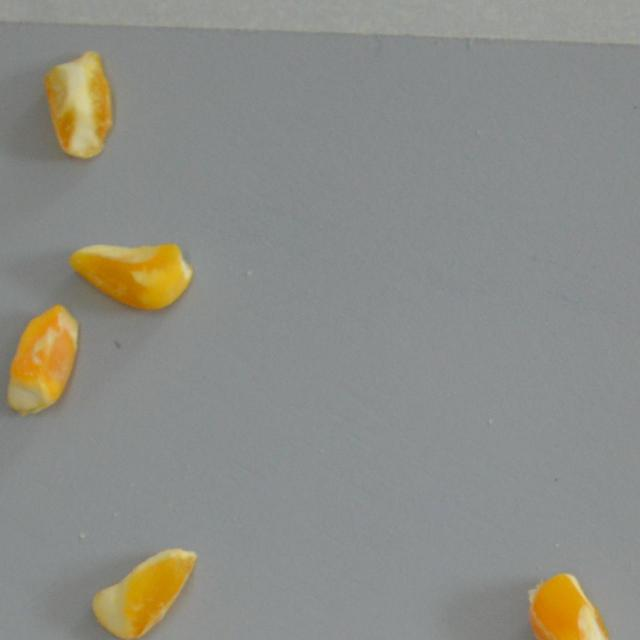estandar: (40, 39, 117, 164), (67, 236, 192, 310)
pelicula: (2, 300, 88, 422), (88, 546, 200, 639), (524, 568, 610, 640)
